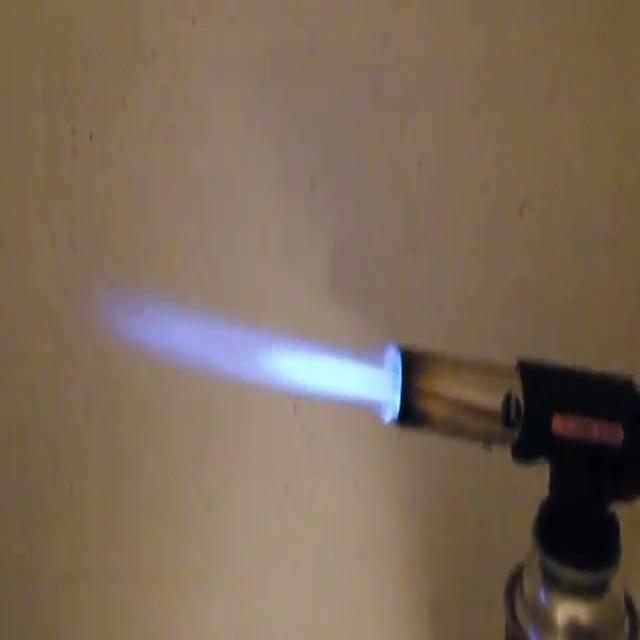fire: (77, 248, 407, 460)
